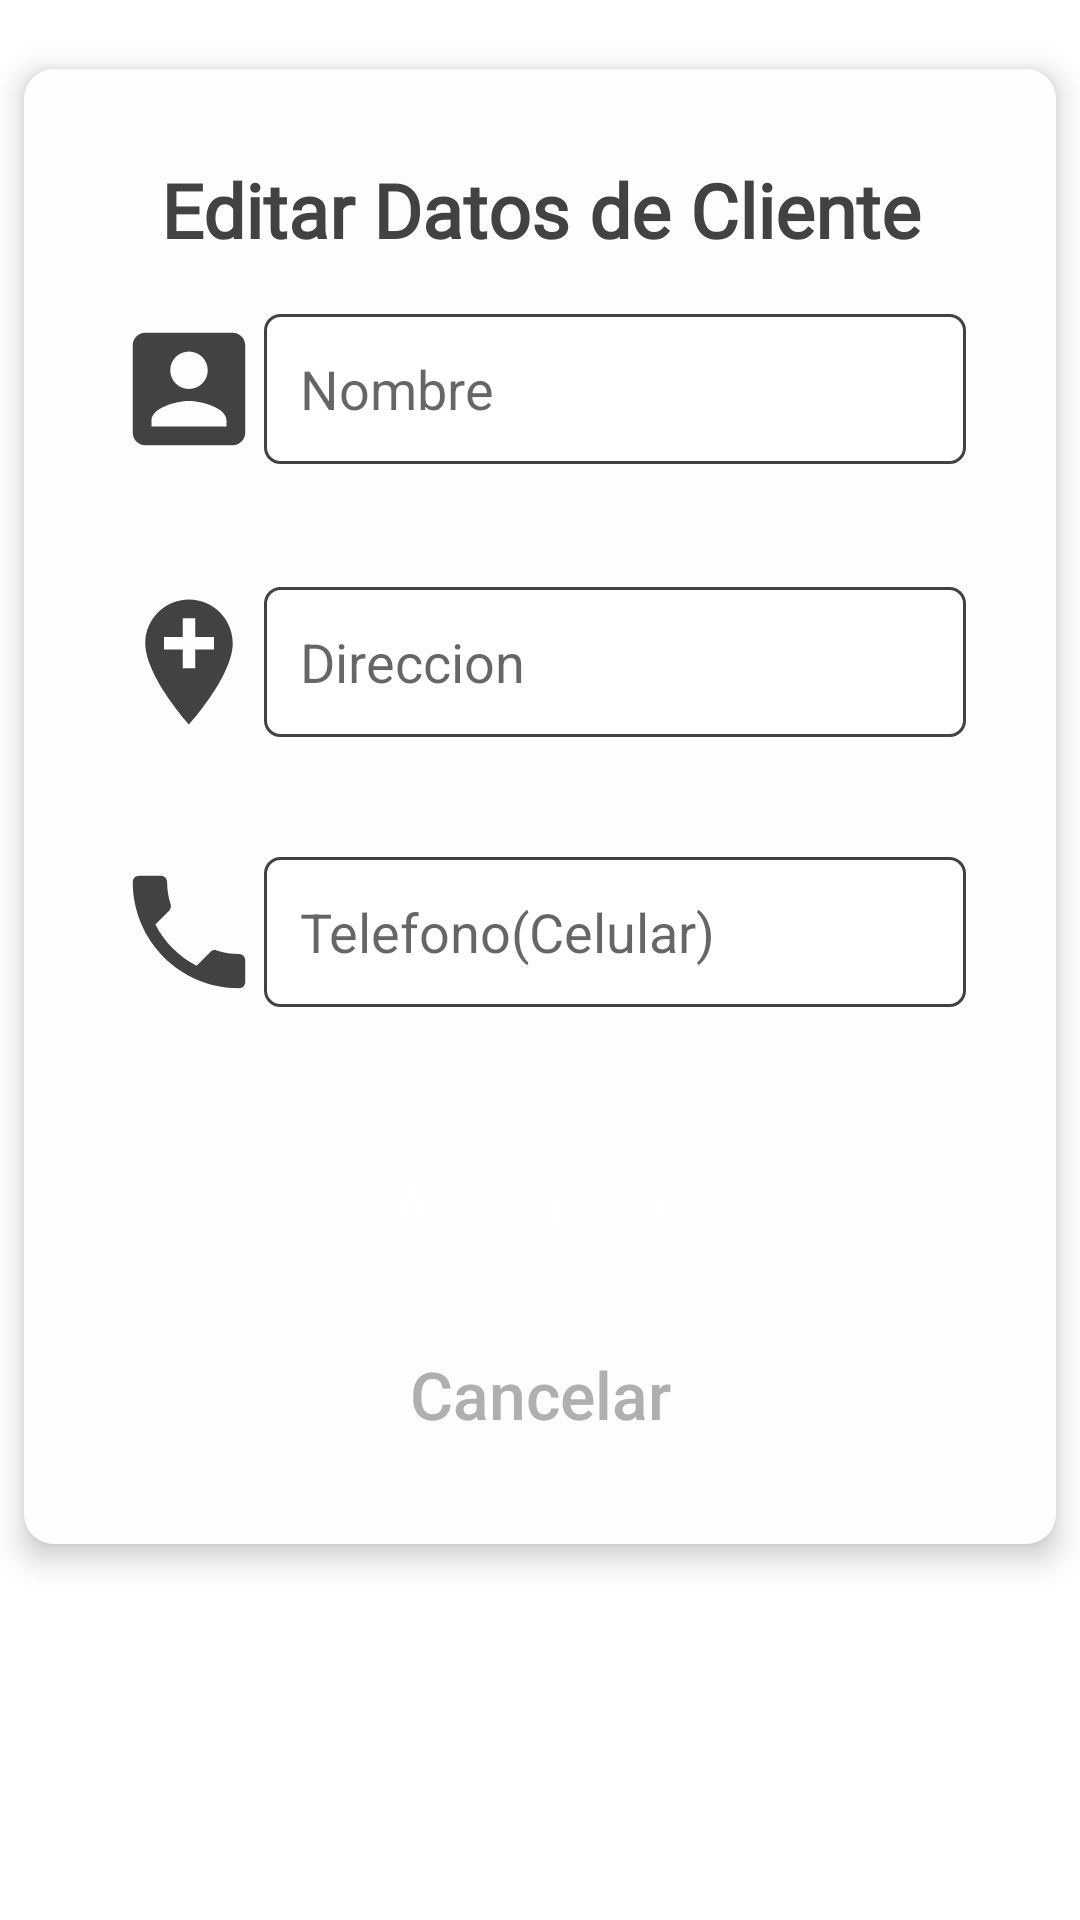

Icons on this 1080px x 1920px Android screen, each with the point to tap as (x=x, y=y):
contactos: (x=189, y=389)
